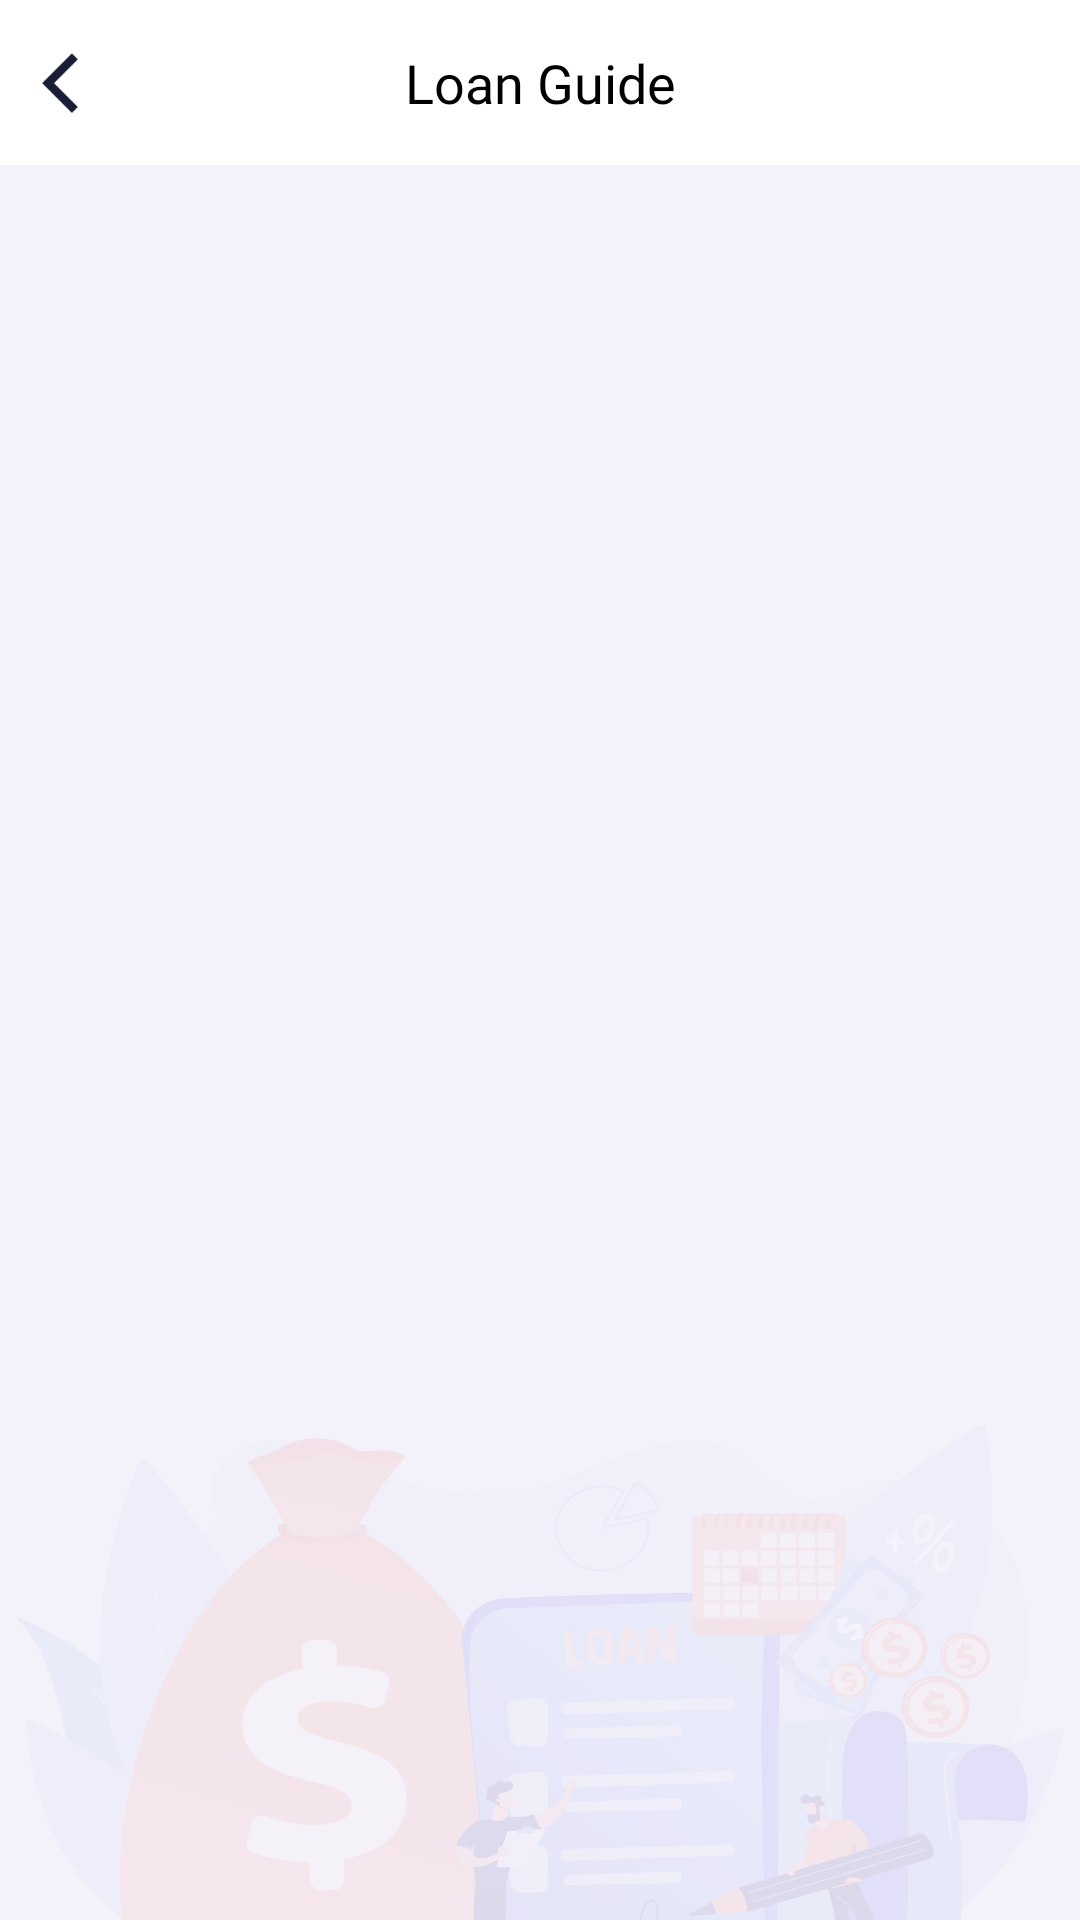

Screen size 1080×1920. Icon name, then its center in pixels as (x=x, y=y):
back: (x=60, y=83)
